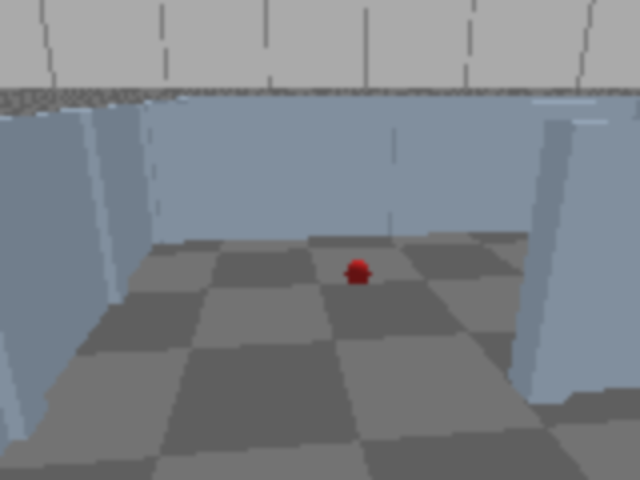puck: (341, 256, 376, 292)
